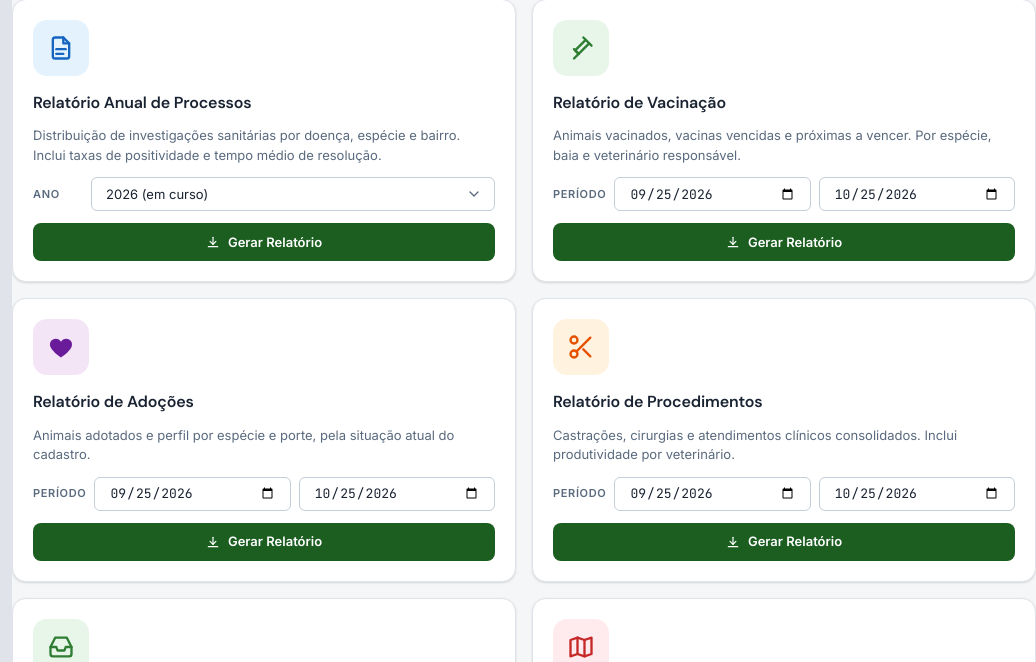
Relatorios › gera o preview de Adoções e exibe a nota de limitação e o perfil
Click the button "Gerar Relatório" below "Relatório de Adoções".
click(264, 542)  # box [33,523,495,561]
(page scrolled)
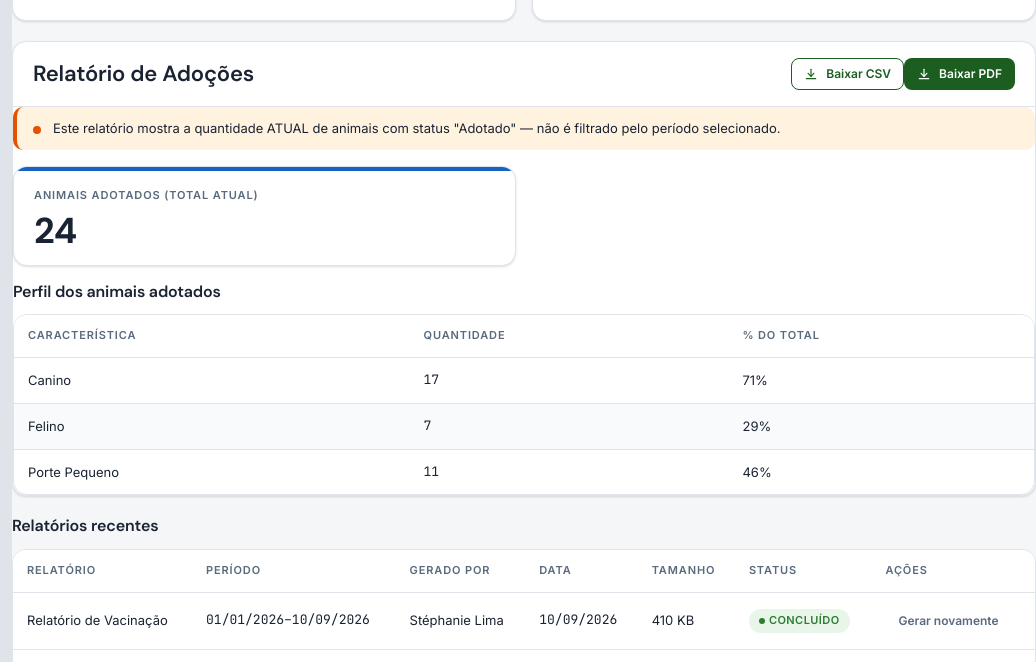
Check: the text "não é filtrado pelo período selecionado" is shown, box [53,120,781,136]
Check: the text "Canino" is shown, box [14,358,410,404]
